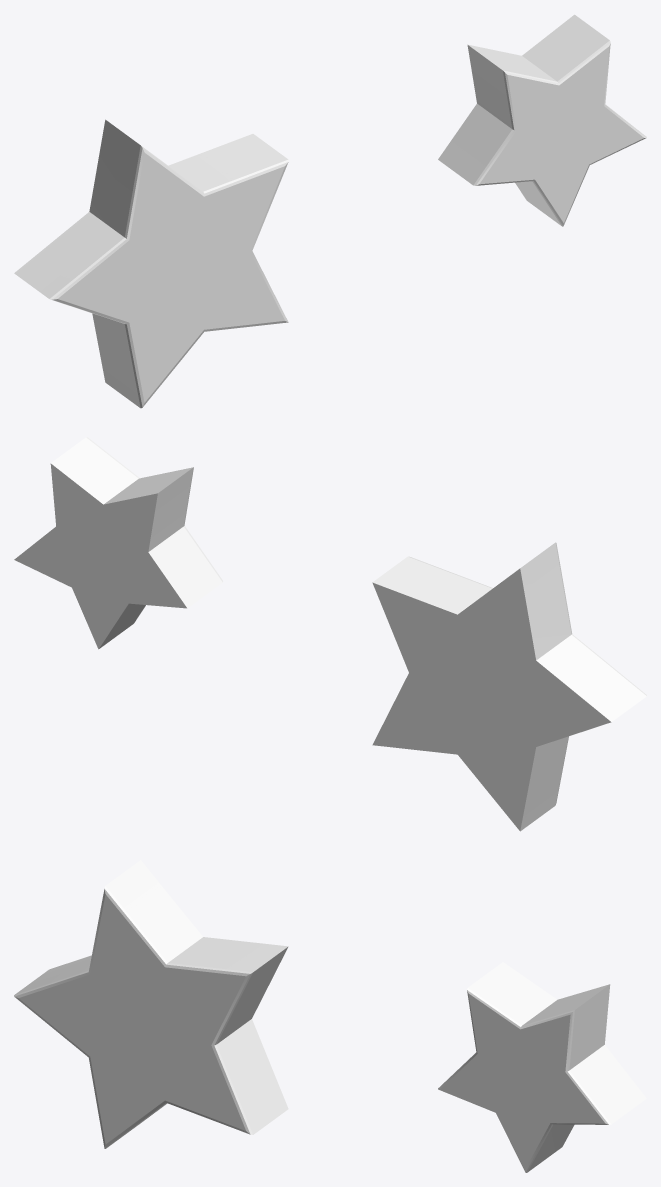
File: Stars.FBX
3 renders of one model, top to bottom at view 1: azimuth 30°, elevation 25°; view 2: azimuth 150°, elevation 25°; view 3: azimuth 330°, elevation 25°, orthographic.
Parts seen in each view (by area): view 1: Stars; view 2: Stars; view 3: Stars.
Boxes of the visible parts, x1,y1,x2,y2 form: Stars: (14,14,646,408); Stars: (14,437,646,831); Stars: (14,860,646,1172).
Bounding box in the file's own units: 39.78 × 16.75 × 4.29.
